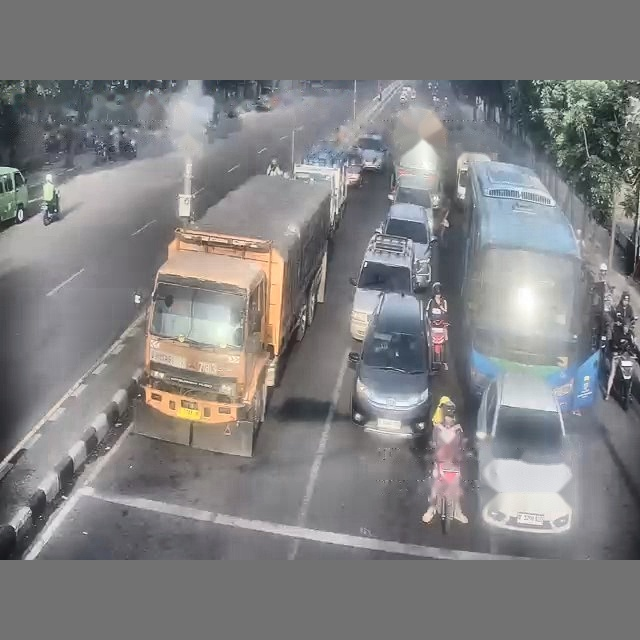Bis: (461, 161, 599, 410)
